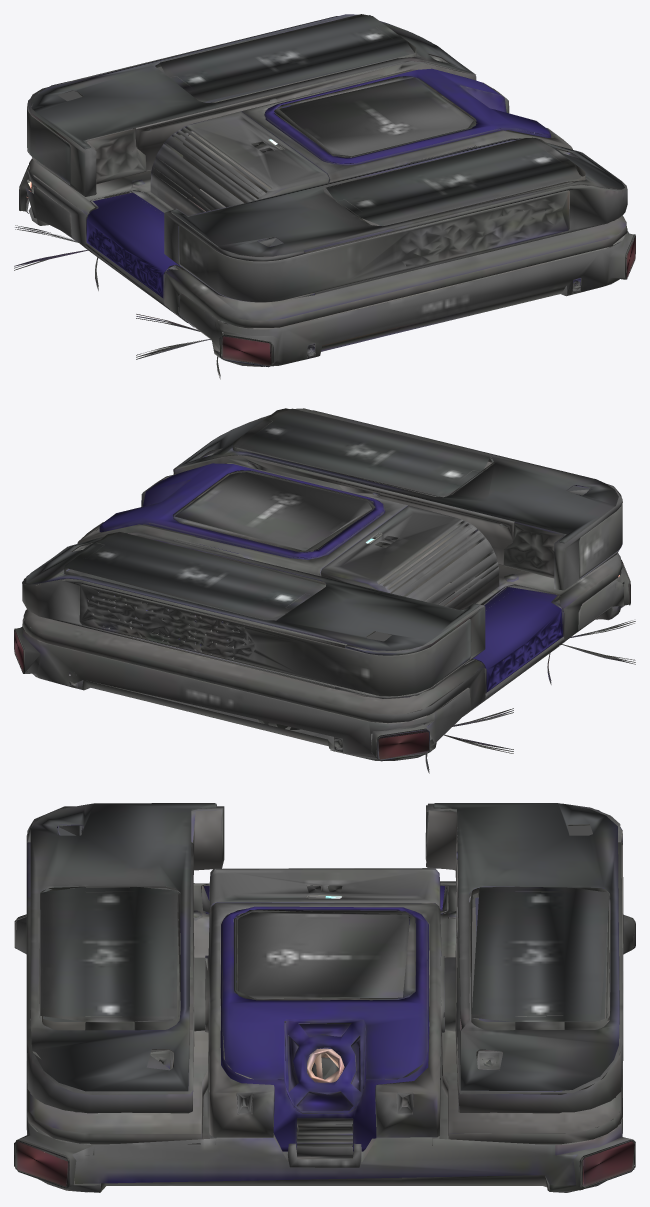
Rendered from robot.glb.
The picture shows the model from 3 angles, top to bottom: view 1: azimuth 30°, elevation 25°; view 2: azimuth 150°, elevation 25°; view 3: azimuth 270°, elevation 25°; orthographic projection. The views are drawn at different scales.
Visible parts, largest first — view 1: body_01_mesh_00, glassCover_01_mesh_00; view 2: body_01_mesh_00, glassCover_01_mesh_00; view 3: body_01_mesh_00, glassCover_01_mesh_00.
Boxes of the visible parts, x1,y1,x2,y2 form: body_01_mesh_00: [14, 14, 635, 379]; glassCover_01_mesh_00: [86, 68, 550, 298]; body_01_mesh_00: [14, 408, 635, 773]; glassCover_01_mesh_00: [99, 463, 563, 692]; body_01_mesh_00: [14, 803, 635, 1192]; glassCover_01_mesh_00: [204, 885, 444, 1151].
Bounding box in the file's own units: 0.7494 × 0.1945 × 0.6881.
8 materials, 8 textured.
